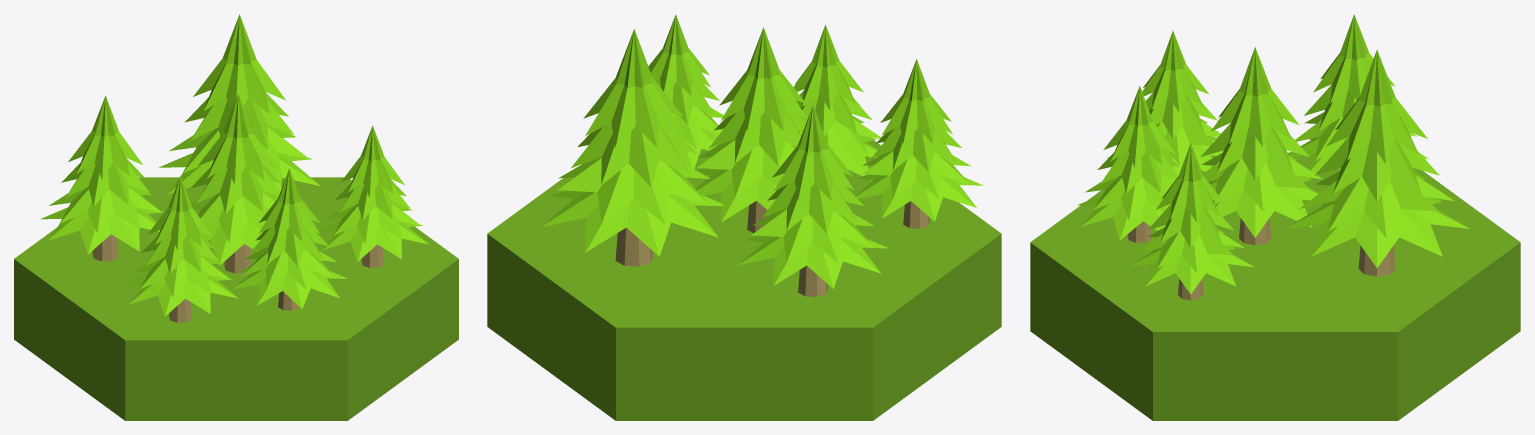
The model's file is Pinos_Altos_Hex.fbx.
3 renders of one model, left to right at view 1: azimuth 30°, elevation 25°; view 2: azimuth 150°, elevation 25°; view 3: azimuth 270°, elevation 25°, orthographic. The views are drawn at different scales.
Visible parts, largest first — view 1: Pinos_Altos; view 2: Pinos_Altos; view 3: Pinos_Altos.
Boxes of the visible parts, x1=… form: Pinos_Altos: x1=14, y1=14, x2=458, y2=420; Pinos_Altos: x1=487, y1=14, x2=1001, y2=420; Pinos_Altos: x1=1030, y1=14, x2=1520, y2=420.
Size of the model in its own units: 86.6 by 69.39 by 100.
Materials: 1 (1 with a texture image).
